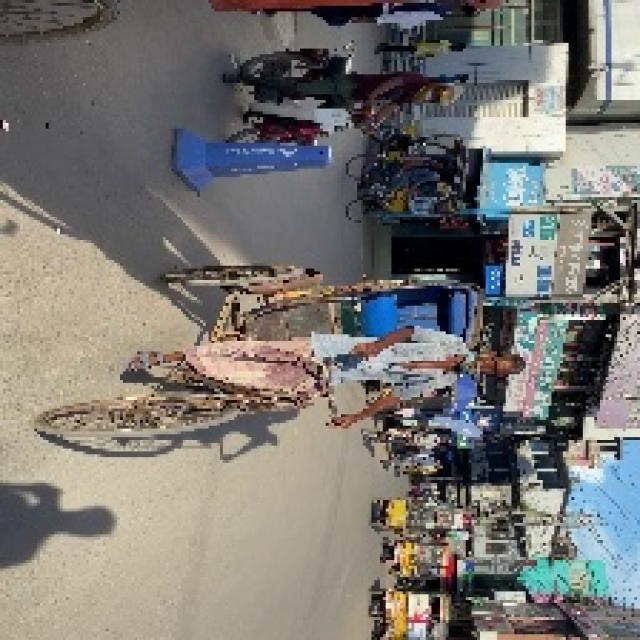bike: (233, 42, 386, 144)
rickshaw: (47, 263, 513, 450), (366, 586, 451, 632), (374, 491, 457, 538), (387, 539, 449, 569)
